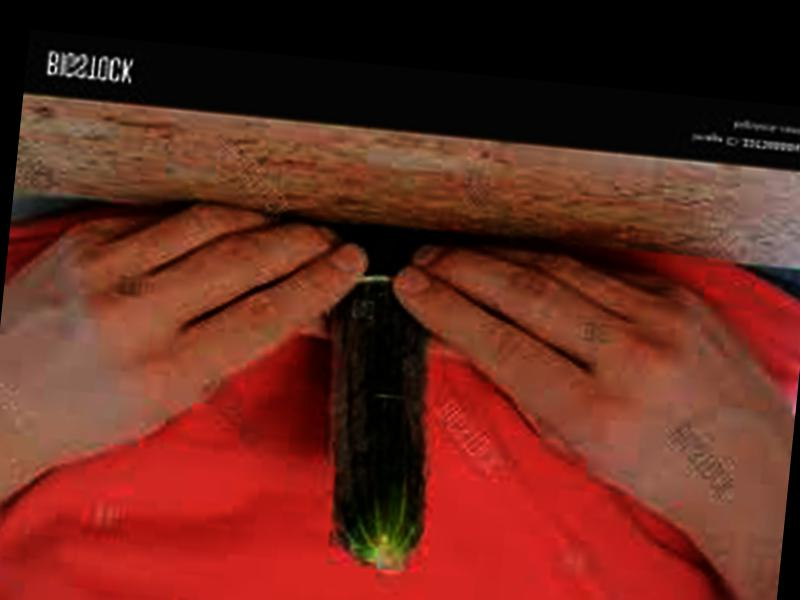Cucumber: (308, 226, 453, 572)
